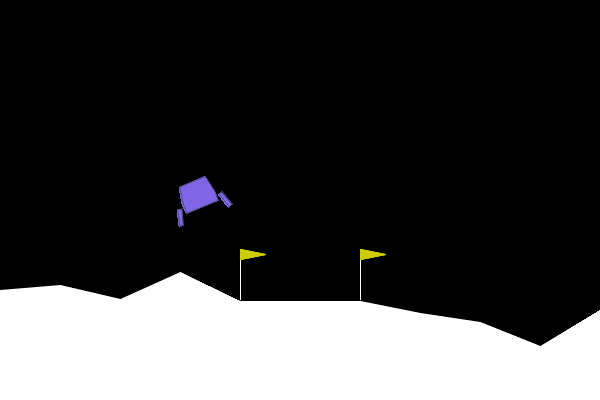lander: (163, 169, 234, 229)
